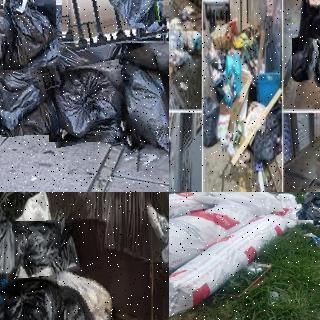Garbage: (103, 44, 169, 169), (46, 63, 130, 145), (0, 32, 58, 136), (56, 0, 169, 47), (3, 0, 58, 69), (59, 260, 116, 320), (0, 276, 68, 320), (14, 220, 62, 277), (291, 38, 316, 83), (202, 96, 220, 147), (297, 192, 320, 221), (307, 14, 320, 55), (312, 51, 320, 88)
